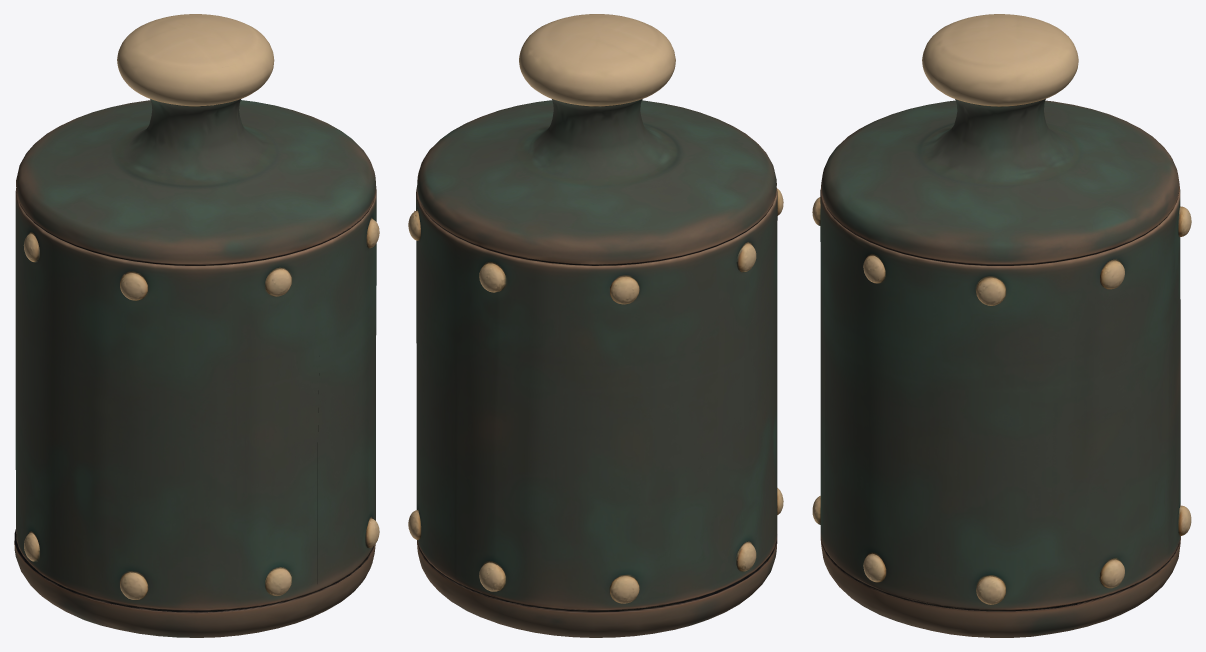
3 views of the same model, side by side, from view 1: azimuth 30°, elevation 25°; view 2: azimuth 150°, elevation 25°; view 3: azimuth 270°, elevation 25° (orthographic).
Visible parts, largest first — view 1: tripo_node_495a0017; view 2: tripo_node_495a0017; view 3: tripo_node_495a0017.
Part boxes in pixels (x1=…): tripo_node_495a0017: x1=14, y1=14, x2=379, y2=637; tripo_node_495a0017: x1=408, y1=14, x2=783, y2=637; tripo_node_495a0017: x1=812, y1=14, x2=1191, y2=637.
Size of the model in its own units: 0.6333 by 0.9995 by 0.6333.
Materials: 1 (1 with a texture image).
